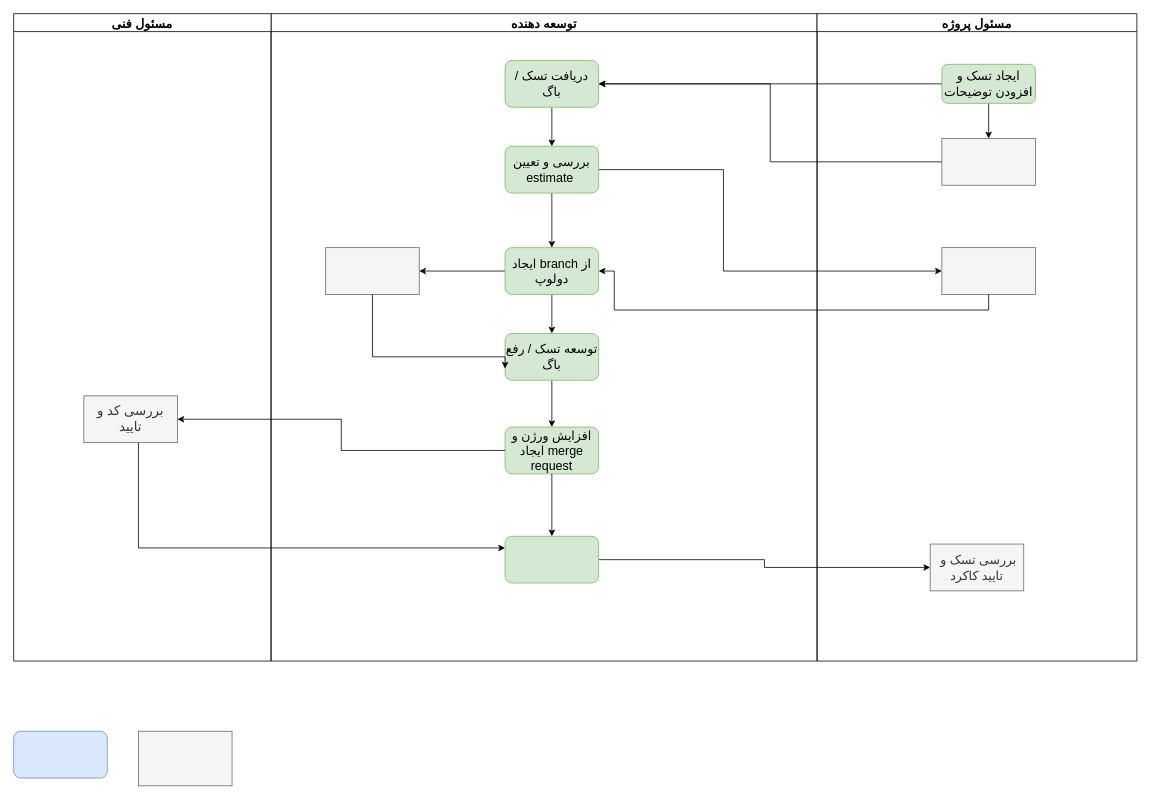
Image size: 1151x800. Some labels were removed from this diagram. The shapes that lost their labels are listed below. From the top down, each one's centre as x and y in pixels, then its label:
[988,161]: تعیین جلسه و briefing
[372,270]: توسعه تست و شناسایی دقیق باگ
[988,270]: تایید estimate توسط مدیر پروژه و تایید
[551,559]: آپدیت دولوپ
[60,754]: اصلی / ضروری
[185,758]: تصمیم بر اساس پروژه / انتخابی
